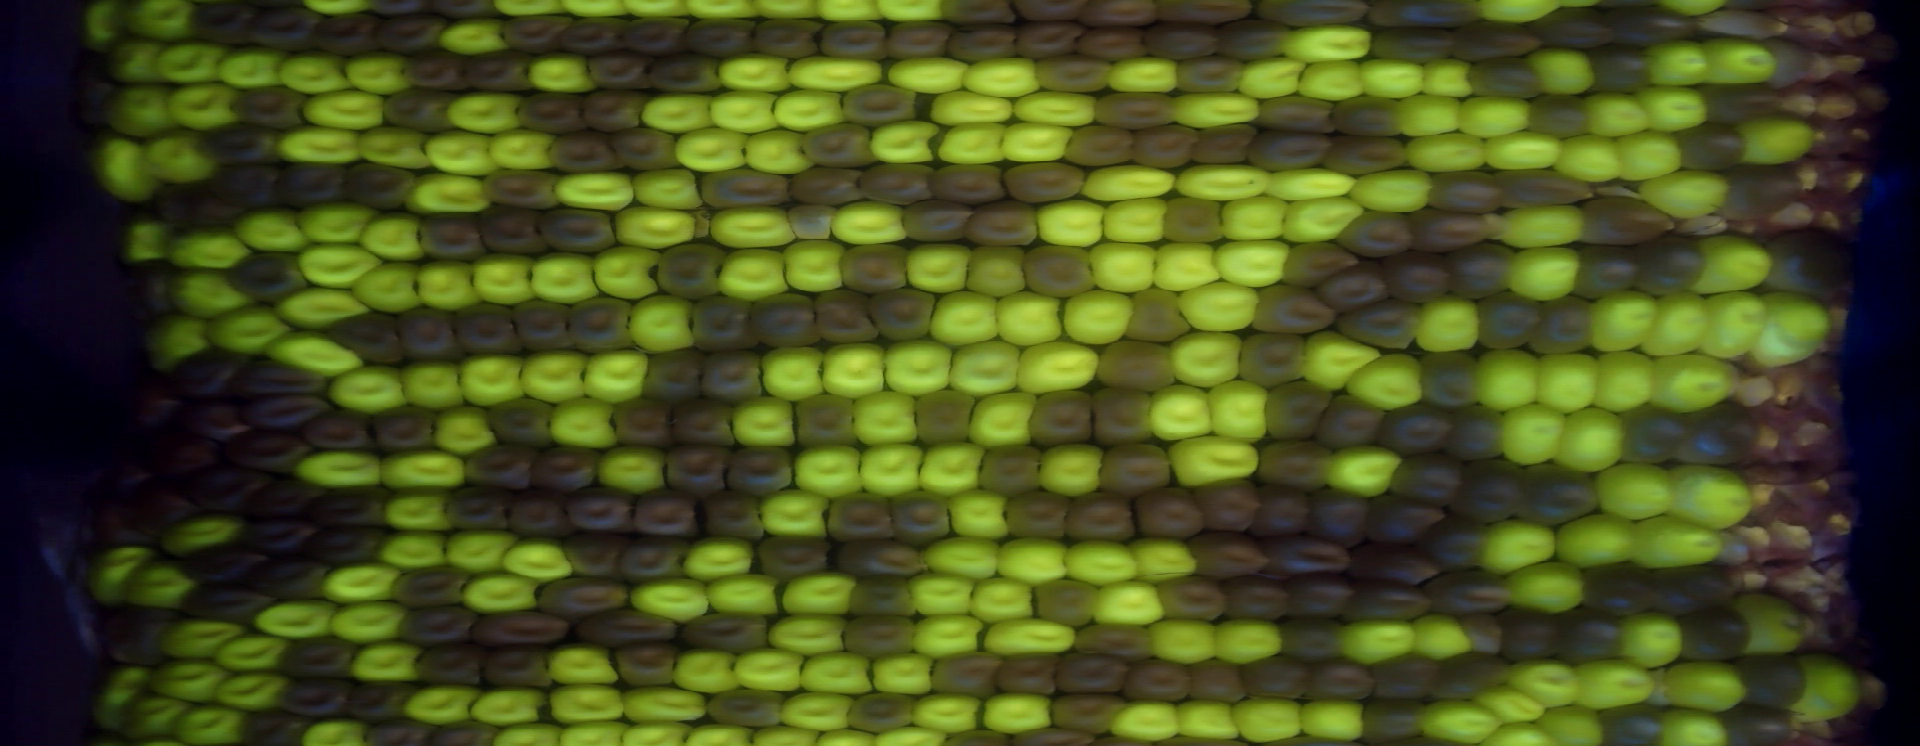fluorescent: (1659, 456, 1763, 538), (1749, 283, 1836, 367), (1625, 507, 1730, 576), (1547, 506, 1649, 575), (1644, 349, 1745, 419), (1679, 232, 1777, 303), (1727, 583, 1811, 661), (1294, 325, 1382, 399), (1790, 648, 1871, 729), (1631, 164, 1738, 225), (258, 327, 371, 383), (1164, 430, 1264, 492), (135, 122, 227, 190), (1589, 459, 1682, 526), (1582, 285, 1663, 361), (1548, 404, 1630, 479), (1171, 276, 1269, 338), (1473, 516, 1569, 579), (1570, 649, 1662, 715), (1695, 285, 1773, 363), (1658, 659, 1758, 719), (1637, 285, 1714, 363), (1494, 396, 1572, 472), (942, 333, 1030, 401), (1161, 327, 1249, 394), (872, 334, 961, 401), (1011, 338, 1106, 401), (416, 124, 509, 186), (264, 282, 373, 334), (589, 439, 681, 501), (1319, 442, 1408, 506), (538, 635, 634, 693), (1587, 343, 1663, 418), (140, 647, 231, 708), (1691, 27, 1780, 89), (1491, 198, 1592, 254), (1501, 241, 1589, 304), (320, 361, 415, 419), (1029, 437, 1113, 502), (163, 262, 256, 321), (200, 301, 293, 360), (84, 136, 164, 205), (710, 244, 796, 307), (1407, 290, 1487, 359), (152, 506, 249, 562), (463, 247, 546, 312), (373, 441, 471, 496), (1473, 344, 1548, 416), (1333, 615, 1427, 673), (1084, 236, 1169, 299), (1057, 285, 1142, 348), (785, 440, 871, 502), (722, 387, 803, 453), (1347, 348, 1430, 412), (1504, 556, 1587, 620), (915, 434, 991, 503), (624, 288, 702, 356), (814, 334, 891, 403), (962, 386, 1040, 454), (114, 554, 202, 614), (1611, 120, 1689, 189), (703, 202, 803, 255), (294, 238, 392, 292), (522, 246, 606, 309), (227, 206, 322, 261), (576, 343, 655, 409), (849, 386, 928, 452), (163, 75, 249, 136), (451, 348, 531, 413), (611, 675, 713, 726), (922, 285, 1004, 349), (609, 202, 708, 255), (437, 86, 531, 141), (1610, 606, 1689, 673), (1501, 655, 1589, 714), (1344, 167, 1442, 219), (827, 194, 916, 251), (1145, 379, 1220, 447), (1026, 194, 1113, 252), (587, 240, 665, 305), (347, 255, 426, 318), (392, 353, 471, 416), (992, 532, 1078, 590), (1278, 18, 1381, 67), (298, 85, 393, 137), (410, 254, 487, 318), (989, 284, 1067, 349), (291, 195, 382, 250), (542, 391, 621, 454), (754, 341, 833, 404), (958, 54, 1052, 107), (1146, 236, 1228, 296), (780, 563, 862, 624), (288, 443, 388, 492), (160, 223, 256, 274), (851, 439, 928, 502), (157, 616, 252, 668), (403, 167, 493, 220), (1169, 159, 1277, 205), (104, 82, 184, 143), (136, 311, 216, 372), (1549, 127, 1629, 189), (1206, 376, 1276, 446), (516, 342, 587, 410), (78, 539, 147, 610), (1531, 348, 1603, 415), (781, 50, 891, 94), (459, 681, 553, 733), (271, 118, 362, 170), (1417, 693, 1509, 746), (765, 604, 851, 660), (756, 484, 838, 543), (1144, 611, 1226, 670), (1280, 194, 1369, 247), (901, 236, 980, 298), (1211, 189, 1294, 246), (115, 686, 198, 744), (1520, 42, 1603, 99), (1084, 576, 1171, 631), (1734, 111, 1821, 167), (779, 236, 853, 300), (737, 122, 818, 181), (353, 207, 429, 269), (272, 47, 358, 102), (1075, 162, 1185, 205), (427, 399, 504, 461), (1222, 691, 1308, 746), (1124, 532, 1206, 589), (347, 632, 430, 688), (148, 36, 235, 89), (1209, 235, 1296, 289), (624, 571, 711, 625), (699, 568, 786, 622), (905, 608, 992, 661), (960, 239, 1033, 303), (980, 612, 1080, 659), (454, 566, 545, 617), (495, 530, 579, 586), (703, 82, 785, 138), (375, 484, 457, 540), (729, 641, 811, 697), (1209, 612, 1291, 669), (440, 526, 525, 579), (249, 594, 343, 643), (206, 627, 291, 681), (541, 677, 636, 726), (1401, 127, 1495, 176), (550, 167, 642, 217), (901, 565, 980, 624), (1633, 80, 1713, 137), (1581, 85, 1657, 145), (866, 114, 947, 170), (667, 122, 752, 176), (211, 665, 291, 722), (316, 559, 407, 609), (667, 641, 744, 699), (1638, 31, 1716, 89), (624, 164, 710, 217), (1407, 605, 1479, 668), (87, 655, 144, 734), (944, 481, 1018, 543), (481, 124, 564, 178), (1451, 89, 1538, 141), (795, 646, 879, 698), (1058, 537, 1142, 589), (1390, 89, 1474, 142), (107, 1, 202, 48), (207, 42, 295, 92), (1260, 160, 1360, 205), (1480, 127, 1569, 178), (1291, 53, 1373, 107), (1097, 194, 1176, 250), (975, 686, 1060, 737), (340, 47, 420, 102), (354, 121, 433, 176), (920, 532, 1007, 582), (373, 522, 454, 576), (678, 530, 760, 583), (634, 87, 722, 136), (323, 597, 411, 646), (709, 47, 795, 97), (1167, 89, 1267, 132), (1100, 51, 1187, 100), (767, 85, 853, 134), (402, 677, 489, 726), (99, 31, 171, 89), (519, 49, 604, 98), (996, 118, 1080, 167), (432, 11, 512, 62), (936, 118, 1015, 169), (1009, 89, 1103, 132), (775, 685, 860, 733), (167, 699, 252, 746), (868, 646, 942, 699), (885, 51, 972, 97), (926, 86, 1022, 126), (1171, 695, 1250, 744), (966, 572, 1040, 625), (1531, 698, 1611, 746), (1236, 51, 1311, 102), (909, 687, 984, 737), (1357, 54, 1431, 104), (1474, 680, 1553, 728), (1651, 702, 1734, 746), (1108, 697, 1185, 744), (1417, 51, 1483, 105), (115, 217, 174, 272), (80, 1, 131, 62), (613, 713, 699, 746), (295, 713, 378, 746), (1480, 717, 1561, 746), (553, 717, 631, 746), (490, 717, 564, 746), (869, 722, 954, 746), (680, 720, 759, 746), (748, 722, 825, 746), (811, 722, 888, 746)
nonfluorescent: (1762, 222, 1861, 303), (1713, 156, 1804, 229), (1671, 401, 1766, 470), (1445, 454, 1537, 526), (1513, 456, 1605, 527), (97, 597, 184, 669), (1572, 194, 1685, 249), (1359, 488, 1452, 552), (1011, 236, 1102, 303), (1576, 557, 1667, 624), (1651, 555, 1738, 624), (324, 307, 416, 372), (829, 534, 939, 588), (680, 292, 764, 361), (534, 198, 624, 263), (574, 600, 686, 653), (1333, 294, 1427, 356), (1245, 281, 1342, 341), (409, 205, 498, 269), (1091, 333, 1182, 397), (1491, 158, 1600, 211), (560, 293, 642, 363), (220, 425, 320, 483), (1346, 539, 1449, 594), (1258, 375, 1336, 447), (130, 419, 225, 478), (182, 459, 282, 516), (1412, 345, 1496, 412), (1371, 247, 1461, 310), (66, 43, 127, 134), (1667, 604, 1757, 665), (533, 570, 636, 624), (1093, 439, 1180, 502), (1229, 326, 1311, 393), (1371, 401, 1463, 461), (1251, 431, 1336, 496), (651, 233, 729, 304), (178, 577, 279, 631), (1731, 643, 1811, 712), (1327, 579, 1438, 628), (1025, 382, 1100, 454), (1118, 284, 1202, 348), (1128, 480, 1212, 544), (220, 246, 310, 306), (806, 285, 887, 352), (1468, 288, 1550, 353), (833, 238, 916, 301), (887, 481, 962, 551), (1631, 232, 1708, 300), (1418, 566, 1518, 619), (469, 605, 577, 654), (1607, 4, 1704, 58), (473, 200, 557, 262), (1310, 391, 1391, 456), (1564, 243, 1646, 306), (1303, 481, 1376, 552), (1384, 450, 1471, 510), (860, 285, 943, 348), (1549, 605, 1629, 670), (229, 353, 332, 403), (170, 538, 273, 588), (1254, 532, 1359, 581), (165, 345, 255, 403), (1670, 115, 1752, 178), (1085, 383, 1160, 452), (658, 436, 733, 503), (118, 352, 176, 439), (1442, 236, 1520, 303), (84, 447, 179, 501), (269, 157, 358, 214), (747, 289, 827, 353), (1269, 609, 1348, 673), (1613, 403, 1693, 465), (1446, 20, 1547, 70), (1084, 88, 1182, 140), (1187, 528, 1276, 584), (560, 481, 642, 543), (678, 606, 771, 660), (391, 303, 468, 367), (999, 484, 1076, 549), (1249, 88, 1340, 143), (381, 557, 471, 612), (449, 299, 528, 363), (996, 157, 1095, 207), (841, 605, 927, 663), (752, 528, 838, 586), (111, 258, 187, 323), (502, 86, 591, 141), (1149, 568, 1231, 628), (1318, 129, 1416, 179), (203, 156, 287, 214), (786, 388, 864, 451), (436, 480, 519, 539), (1059, 488, 1142, 546), (339, 156, 420, 216), (693, 165, 797, 212), (960, 197, 1046, 254), (666, 391, 743, 453), (722, 441, 800, 503), (1522, 293, 1600, 354), (1438, 401, 1509, 468), (525, 439, 605, 499), (1027, 573, 1107, 633), (613, 529, 694, 588), (607, 392, 684, 453), (1429, 650, 1515, 706), (628, 481, 707, 541), (1114, 654, 1201, 708), (1190, 473, 1265, 535), (249, 549, 333, 604), (1463, 51, 1548, 107), (1276, 236, 1360, 292), (698, 484, 774, 545), (240, 2, 328, 55), (1422, 164, 1510, 217), (1404, 202, 1493, 255), (1311, 261, 1400, 314), (482, 393, 560, 453), (301, 405, 383, 462), (88, 490, 160, 554), (923, 644, 1003, 702), (1697, 78, 1790, 127), (478, 638, 558, 695), (822, 489, 899, 548), (304, 6, 386, 61), (795, 118, 877, 173), (411, 639, 493, 695), (1414, 521, 1496, 576), (223, 78, 309, 131), (1048, 646, 1134, 698), (1232, 649, 1310, 707), (269, 635, 366, 681), (298, 518, 387, 568), (696, 345, 770, 405), (231, 390, 336, 432), (644, 48, 729, 100), (372, 85, 457, 137), (980, 439, 1049, 502), (463, 439, 540, 496), (1244, 125, 1335, 174), (747, 13, 829, 67), (369, 399, 447, 456), (1367, 648, 1445, 704), (638, 345, 711, 405), (609, 633, 682, 693), (836, 80, 926, 129), (910, 386, 978, 450), (507, 294, 576, 358), (235, 510, 322, 560), (924, 158, 1009, 209), (1329, 92, 1411, 145), (901, 194, 980, 249), (1178, 653, 1251, 712), (700, 684, 789, 733), (557, 526, 631, 584), (503, 485, 578, 543), (1216, 570, 1296, 624), (274, 673, 354, 726), (853, 159, 937, 211), (1243, 478, 1314, 538), (940, 20, 1027, 69), (193, 119, 280, 168), (369, 9, 449, 61), (844, 571, 924, 624), (1302, 653, 1382, 706), (607, 122, 684, 178), (302, 483, 396, 528), (1360, 1, 1488, 34), (1520, 88, 1594, 145), (676, 13, 762, 62), (1275, 570, 1360, 619), (574, 83, 650, 138), (478, 164, 561, 214), (1500, 606, 1571, 665), (552, 10, 633, 61), (842, 686, 923, 737), (245, 477, 332, 524), (394, 600, 481, 648), (1209, 13, 1293, 62), (813, 13, 895, 64), (1583, 38, 1652, 98), (1714, 699, 1802, 746), (1033, 51, 1119, 99), (460, 45, 538, 98), (182, 1, 263, 51), (1340, 209, 1420, 260), (1526, 10, 1620, 53), (1162, 194, 1231, 252), (1354, 695, 1433, 746), (1128, 120, 1202, 174), (545, 124, 621, 176), (1363, 27, 1464, 66), (492, 11, 576, 59), (989, 649, 1067, 701), (1691, 7, 1791, 47), (1009, 16, 1093, 62), (1142, 16, 1224, 64), (1062, 120, 1138, 171), (178, 394, 257, 443), (1251, 1, 1379, 32), (1074, 619, 1160, 664), (1046, 688, 1124, 737), (340, 677, 418, 726), (787, 163, 871, 208), (1188, 119, 1262, 169), (618, 12, 692, 62), (584, 44, 651, 98), (880, 17, 958, 64), (1173, 51, 1250, 98), (234, 699, 311, 746), (398, 47, 470, 96), (1069, 22, 1151, 65), (1594, 698, 1667, 746), (1758, 31, 1816, 89), (179, 176, 241, 230), (358, 710, 443, 746), (1452, 612, 1509, 660), (420, 713, 501, 746), (147, 183, 200, 229)
